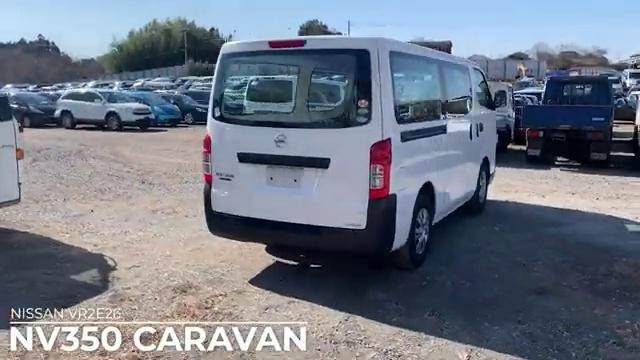van: (204, 32, 502, 258)
